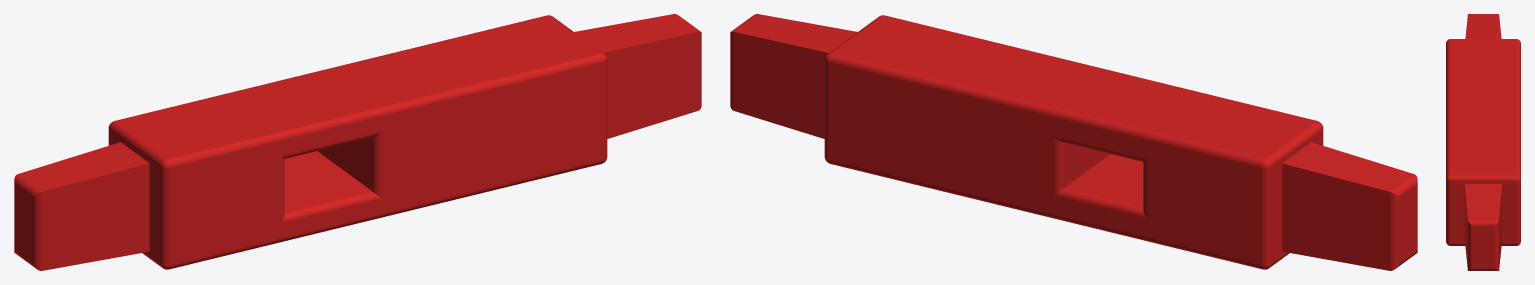
Rendered from 3_colored.obj.
3 views of the same model, side by side, from view 1: azimuth 30°, elevation 25°; view 2: azimuth 150°, elevation 25°; view 3: azimuth 270°, elevation 25° (orthographic). The views are drawn at different scales.
Size of the model in its own units: 0.2286 by 0.036 by 0.0345.
